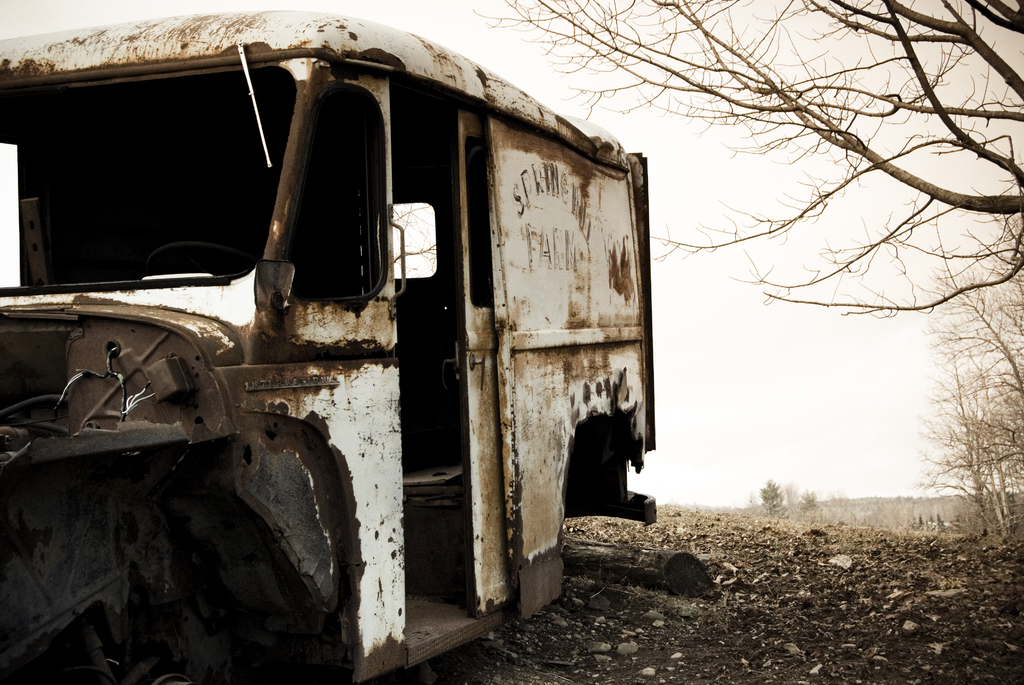Tree: (467, 0, 1023, 316), (919, 255, 1023, 534)
